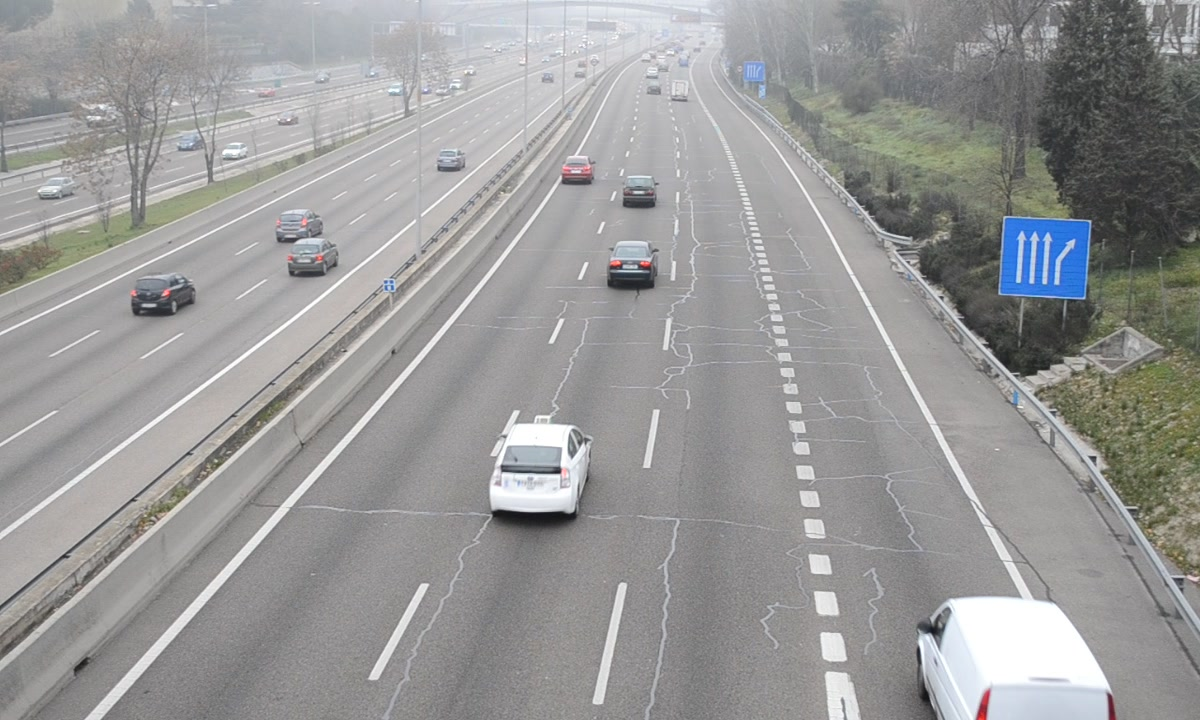car: (489, 424, 590, 514), (607, 240, 657, 284), (622, 175, 659, 209), (561, 155, 596, 184)
van: (919, 596, 1117, 720)
